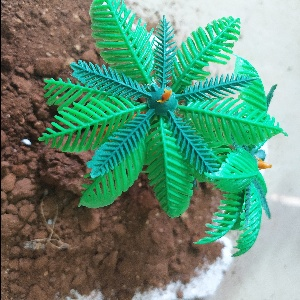plant: (36, 1, 292, 261)
